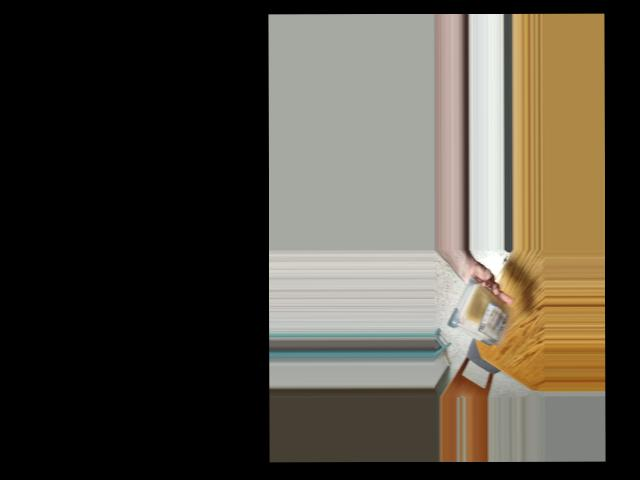cheese: (459, 283, 509, 343)
